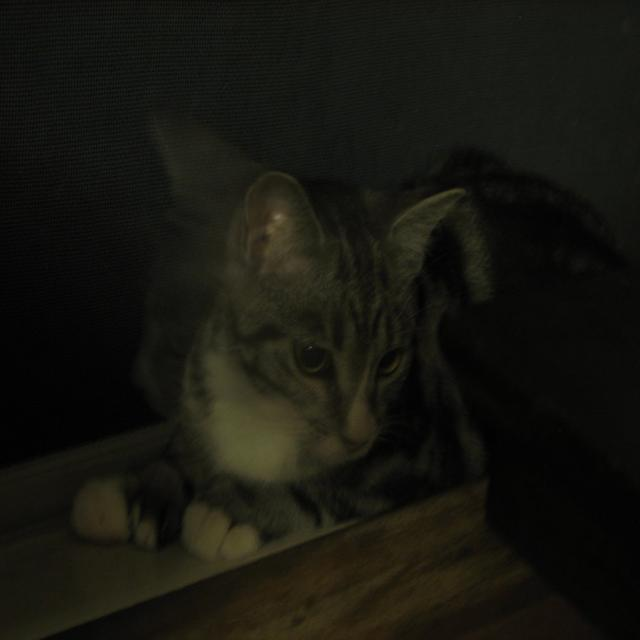Cat: (63, 133, 634, 542)
